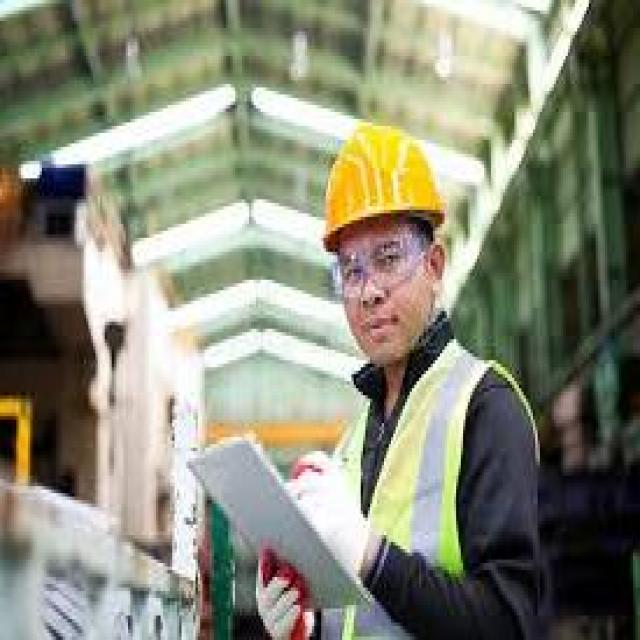Reflective-Jacket: (319, 339, 547, 637)
Safety-Helmet: (314, 115, 456, 262)
